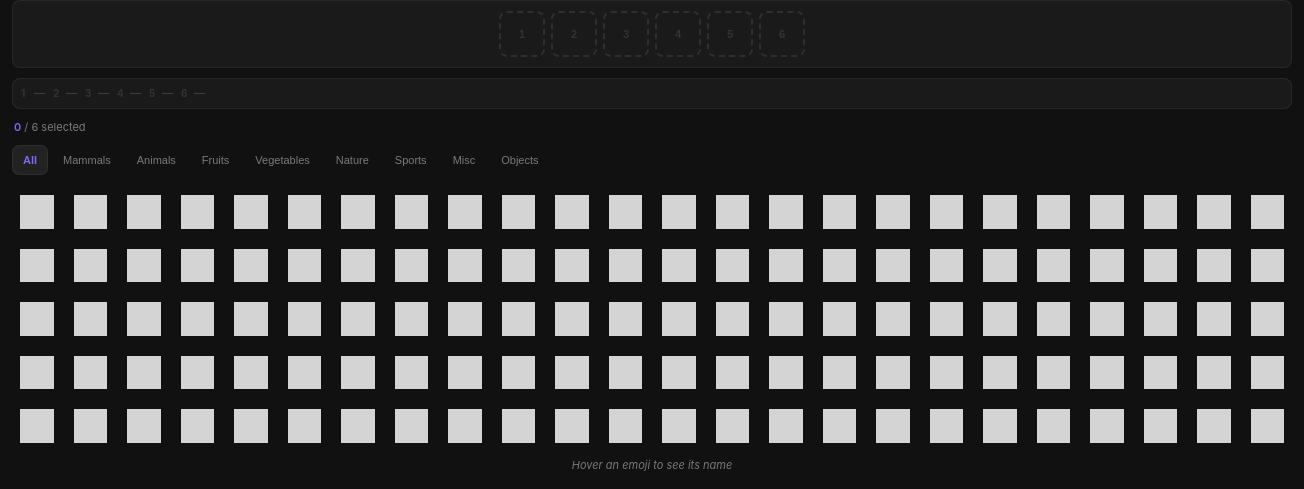
Test: EmojiPicker — hover info bar › shows the emoji name on mouse enter
The image size is (1304, 489).
Hover over the option named "dog face" at (37, 212), box [12,187,62,236]
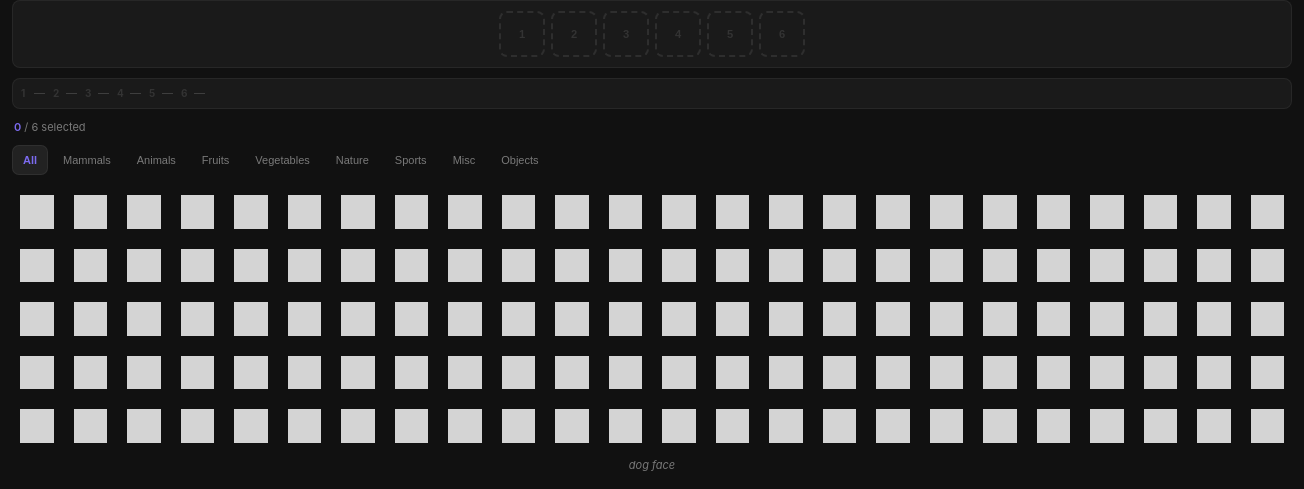
Expected: the text "dog face" is shown, [629,458,675,472]
